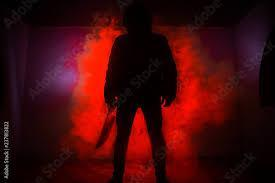Knife: (95, 104, 116, 150)
